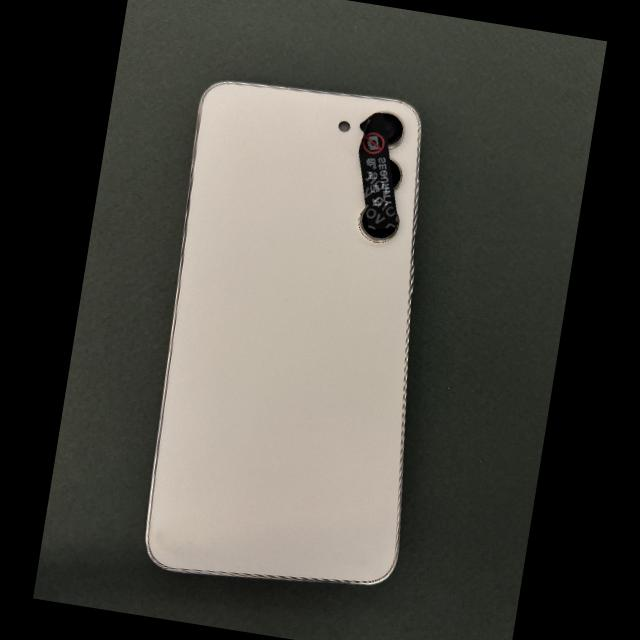lens: (359, 208, 396, 241), (382, 113, 403, 147), (389, 158, 401, 193)
phone: (146, 82, 421, 585)
sticker: (359, 113, 399, 231)
